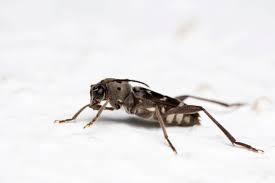insect: (52, 68, 267, 161)
